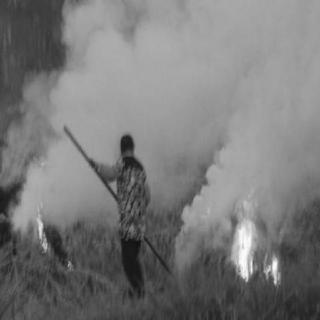Smoke: (188, 20, 312, 216)
